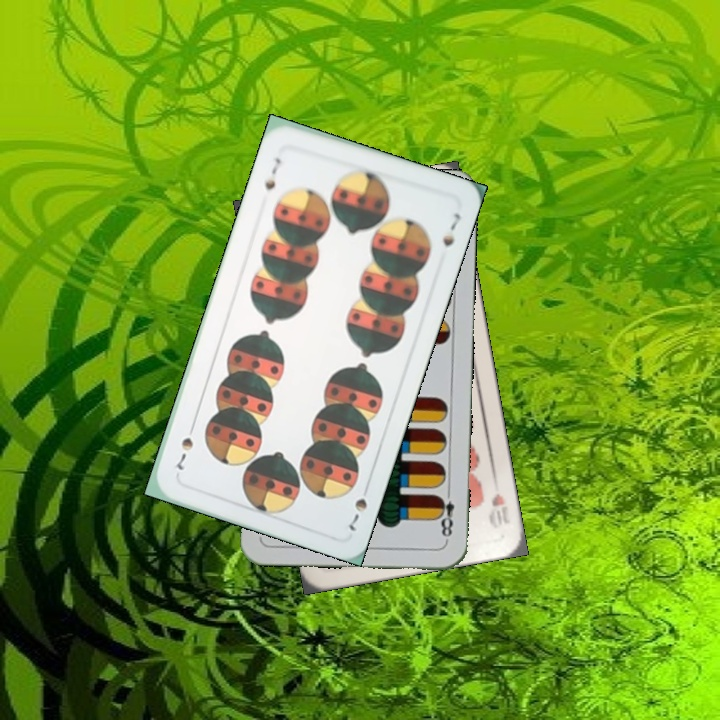E8: (433, 485, 457, 544)
H10: (487, 489, 513, 528)
S7: (344, 478, 373, 534), (260, 153, 284, 193)
